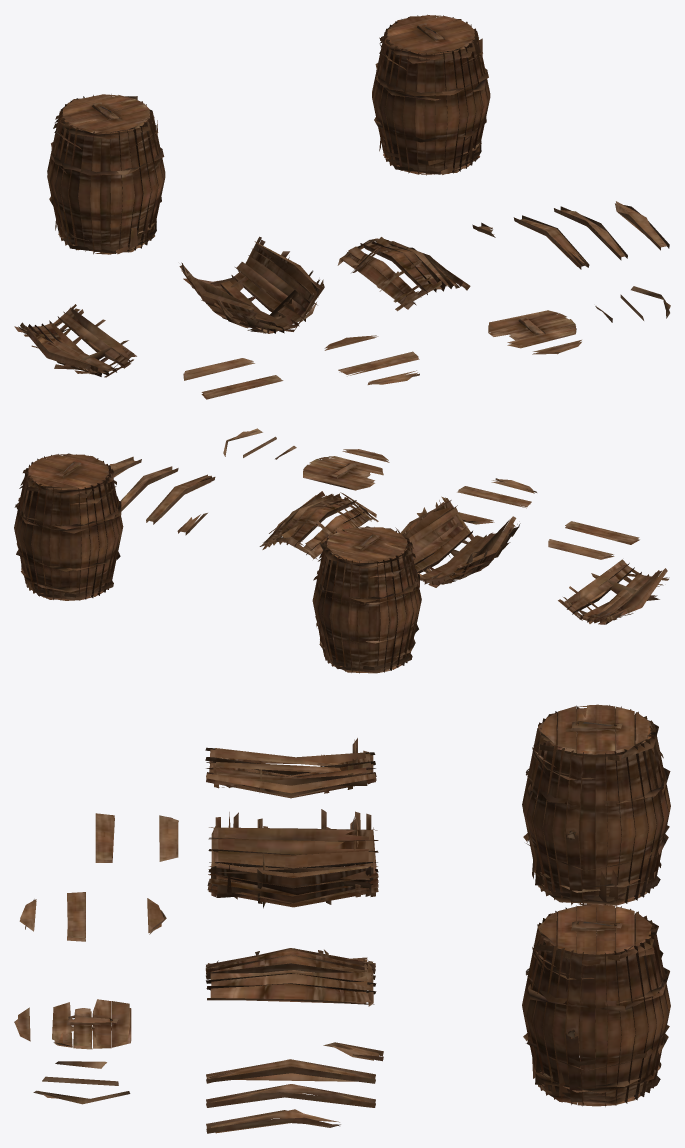
Rendered from ph_wooden_barrels_01.glb.
The picture shows the model from 3 angles, top to bottom: view 1: azimuth 30°, elevation 25°; view 2: azimuth 150°, elevation 25°; view 3: azimuth 270°, elevation 25°; orthographic projection. The views are drawn at different scales.
Visible parts, largest first — view 1: wooden_barrels_01_barrel01; view 2: wooden_barrels_01_barrel01; view 3: wooden_barrels_01_barrel01.
Boxes of the visible parts, left/top/right/bottom form: wooden_barrels_01_barrel01: left=14, top=14, right=670, bottom=399; wooden_barrels_01_barrel01: left=14, top=428, right=669, bottom=673; wooden_barrels_01_barrel01: left=14, top=704, right=670, bottom=1133.
Bounding box in the file's own units: 4.44 × 0.9495 × 3.36.
Materials: 3 (3 with a texture image).
